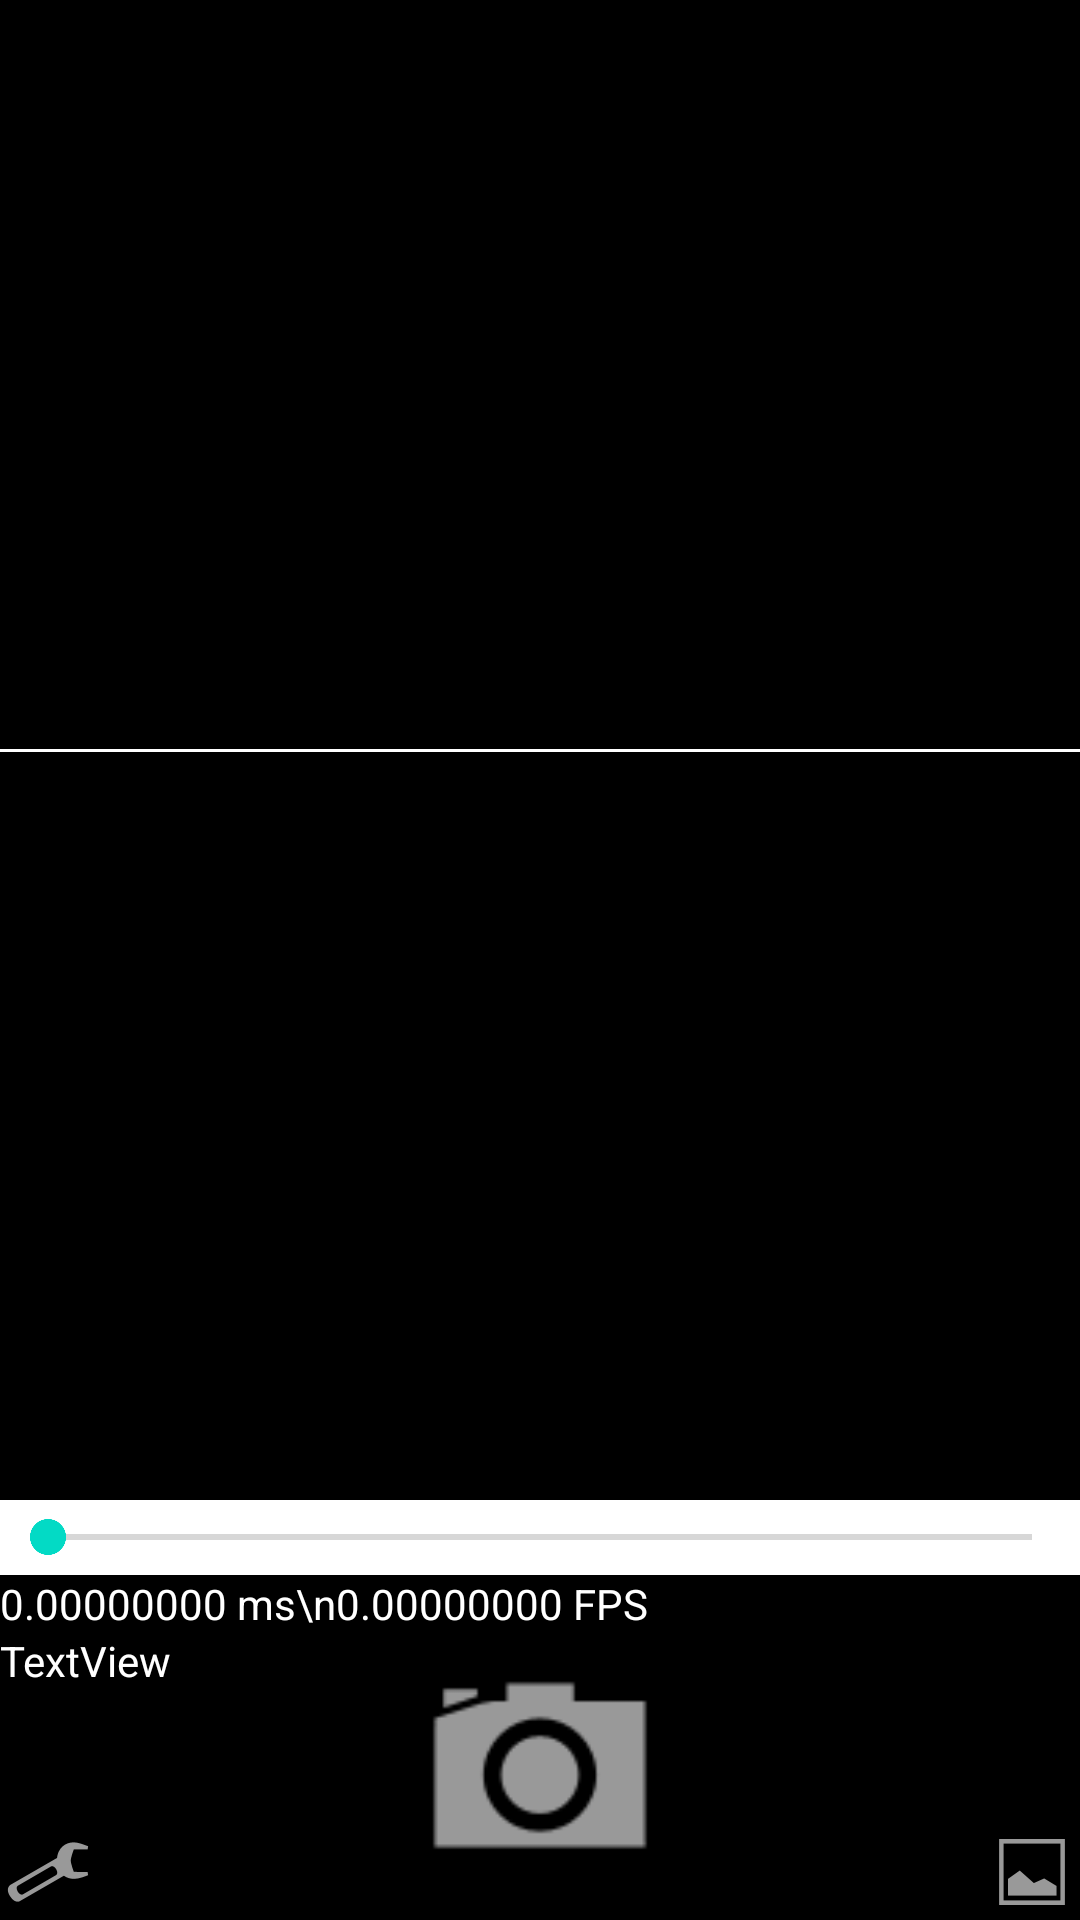

Point at icon controls on the screen. Image size 1080 x 1920, points as point (x, y).
camera: point (540, 1765)
gallery: point (1032, 1872)
preferences: point (48, 1872)
